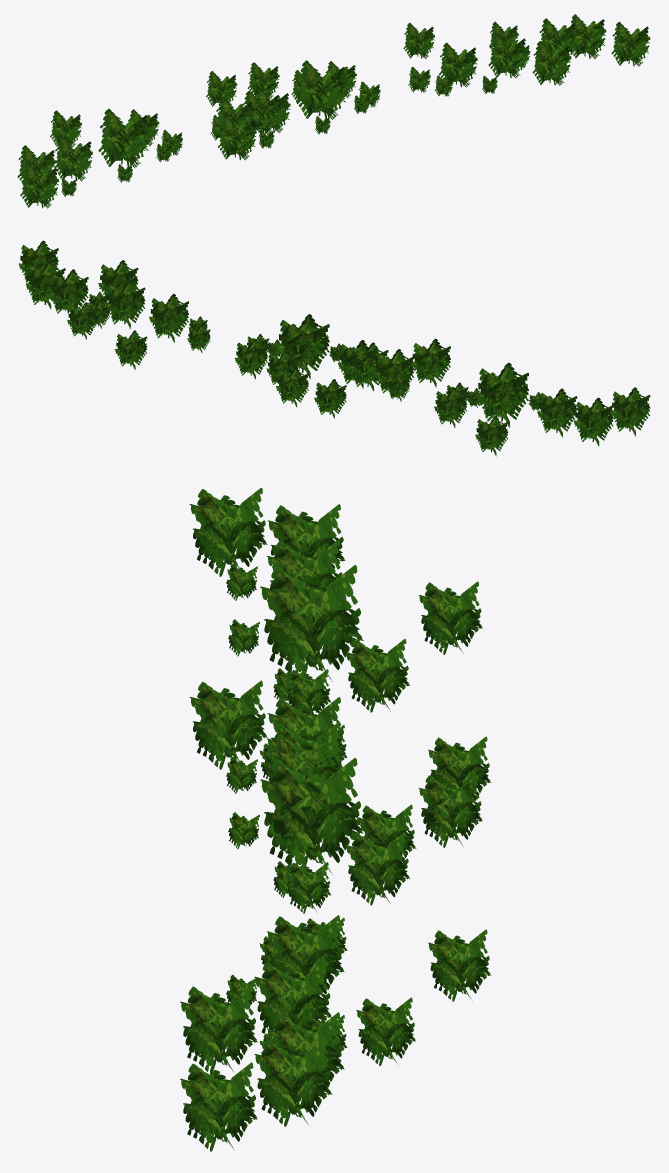
File: Bushes_New_1.obj
3 renders of one model, top to bottom at view 1: azimuth 30°, elevation 25°; view 2: azimuth 150°, elevation 25°; view 3: azimuth 270°, elevation 25°, orthographic. The views are drawn at different scales.
Parts seen in each view (by area): view 1: Bush031, Bush05, Bush040, Bush023, Bush08, Bush015, Bush025, Bush013, Bush06, Bush041, Bush037, Bush026 (+13 smaller); view 2: Bush031, Bush05, Bush06, Bush025, Bush024, Bush013, Bush023, Bush08, Bush037, Bush014, Bush041, Bush019 (+13 smaller); view 3: Bush031, Bush05, Bush041, Bush015, Bush040, Bush023, Bush013, Bush08, Bush06, Bush019, Bush09, Bush020 (+13 smaller).
Boxes of the visible parts, <box> form: Bush031: <box>98,108,150,168</box>; Bush05: <box>296,60,347,119</box>; Bush040: <box>611,21,650,66</box>; Bush023: <box>20,163,58,208</box>; Bush08: <box>488,33,527,78</box>; Bush015: <box>532,41,571,85</box>; Bush025: <box>54,136,92,181</box>; Bush013: <box>218,115,256,160</box>; Bush06: <box>439,42,477,87</box>; Bush041: <box>571,14,606,58</box>; Bush037: <box>539,18,577,59</box>; Bush026: <box>243,91,280,134</box>; Bush031: <box>476,362,528,427</box>; Bush05: <box>276,314,329,379</box>; Bush06: <box>149,293,188,342</box>; Bush025: <box>537,388,577,437</box>; Bush024: <box>573,397,613,446</box>; Bush013: <box>411,338,450,387</box>; Bush023: <box>610,387,650,436</box>; Bush08: <box>105,280,145,328</box>; Bush037: <box>48,269,88,313</box>; Bush014: <box>374,349,414,394</box>; Bush041: <box>25,260,65,309</box>; Bush019: <box>434,387,467,427</box>; Bush031: <box>260,564,363,681</box>; Bush05: <box>260,757,363,874</box>; Bush041: <box>254,1037,332,1126</box>; Bush015: <box>180,985,257,1074</box>; Bush040: <box>180,1062,257,1151</box>; Bush023: <box>189,487,267,576</box>; Bush013: <box>189,680,267,769</box>; Bush08: <box>254,960,331,1034</box>; Bush06: <box>267,915,344,994</box>; Bush019: <box>345,639,409,712</box>; Bush09: <box>345,831,410,905</box>; Bush020: <box>418,581,482,654</box>.
Size of the model in its own units: 527 by 46.17 by 119.
Materials: 1 (1 with a texture image).
